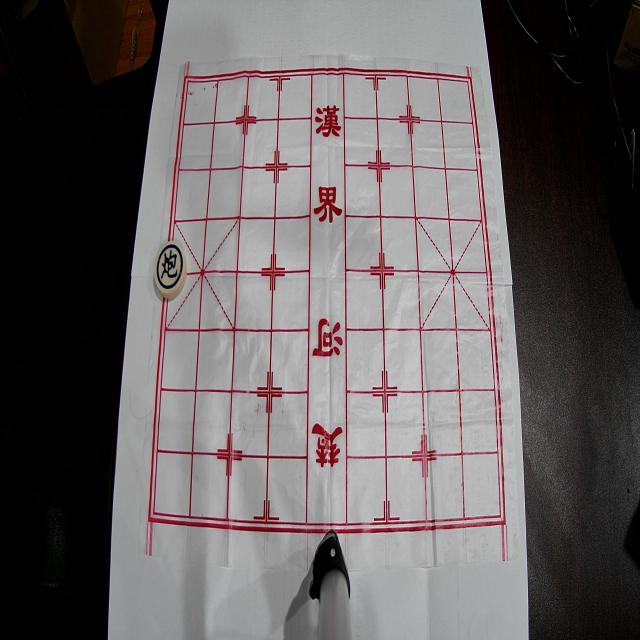black-cannon: (155, 241, 187, 299)
